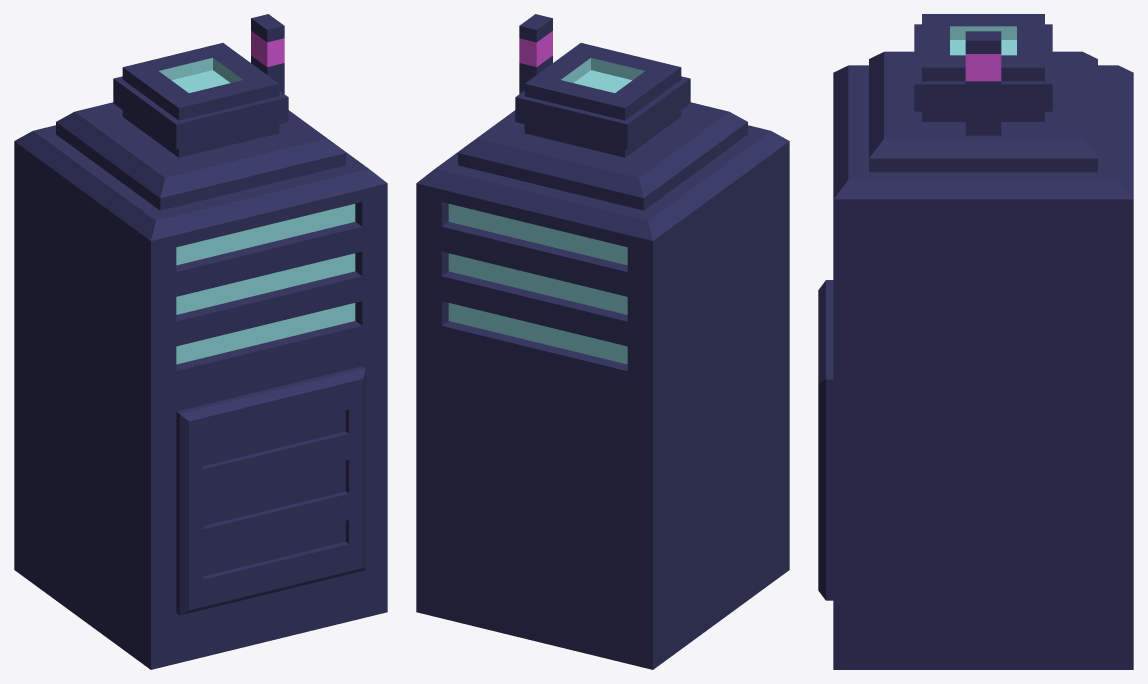
Rendered from Building_3.fbx.
The picture shows the model from 3 angles, left to right: view 1: azimuth 30°, elevation 25°; view 2: azimuth 150°, elevation 25°; view 3: azimuth 270°, elevation 25°; orthographic projection. The views are drawn at different scales.
Visible parts, largest first — view 1: pCube11; view 2: pCube11; view 3: pCube11.
Boxes of the visible parts, x1,y1,x2,y2 form: pCube11: [14, 14, 387, 669]; pCube11: [416, 14, 789, 669]; pCube11: [818, 14, 1133, 669].
Bounding box in the file's own units: 5 × 11.15 × 5.25.
